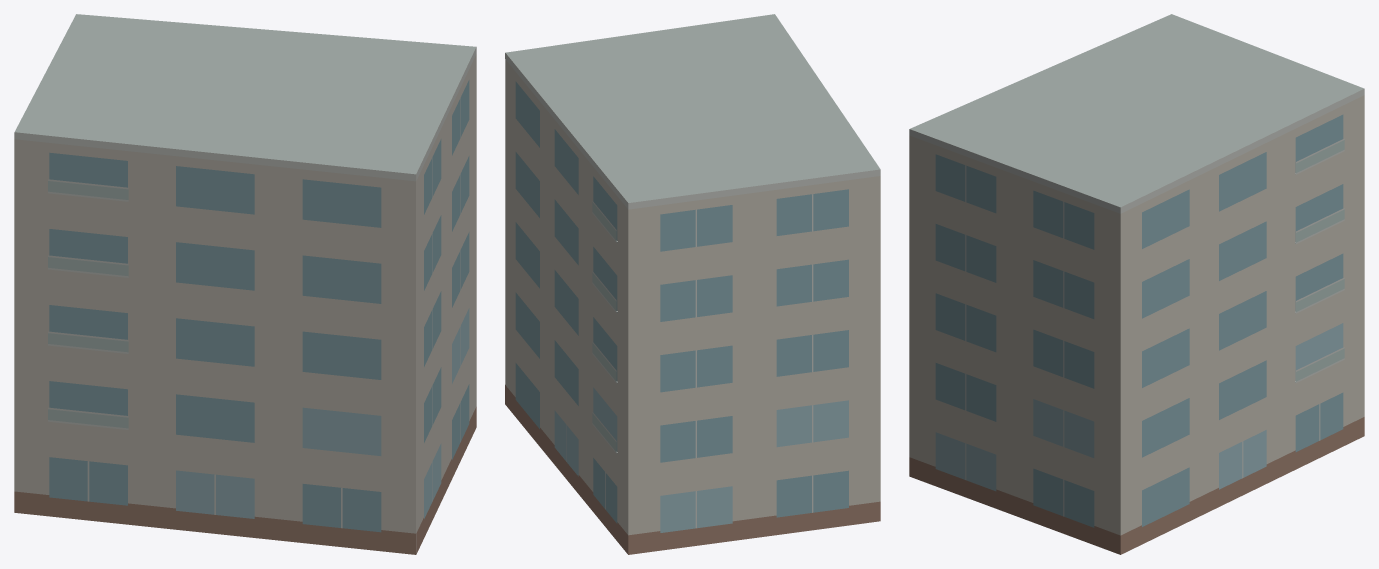
File: survey-upis-33038856.glb
3 renders of one model, left to right at view 1: azimuth 30°, elevation 25°; view 2: azimuth 150°, elevation 25°; view 3: azimuth 270°, elevation 25°, orthographic. The views are drawn at different scales.
Parts seen in each view (by area): view 1: survey-upis-33038856.tmp; view 2: survey-upis-33038856.tmp; view 3: survey-upis-33038856.tmp.
Part boxes in pixels (box(x1,y1,x2,y2)): survey-upis-33038856.tmp: box(14, 14, 476, 554); survey-upis-33038856.tmp: box(505, 14, 880, 554); survey-upis-33038856.tmp: box(909, 14, 1364, 554).
Size of the model in its own units: 15.77 by 13.2 by 15.68.
